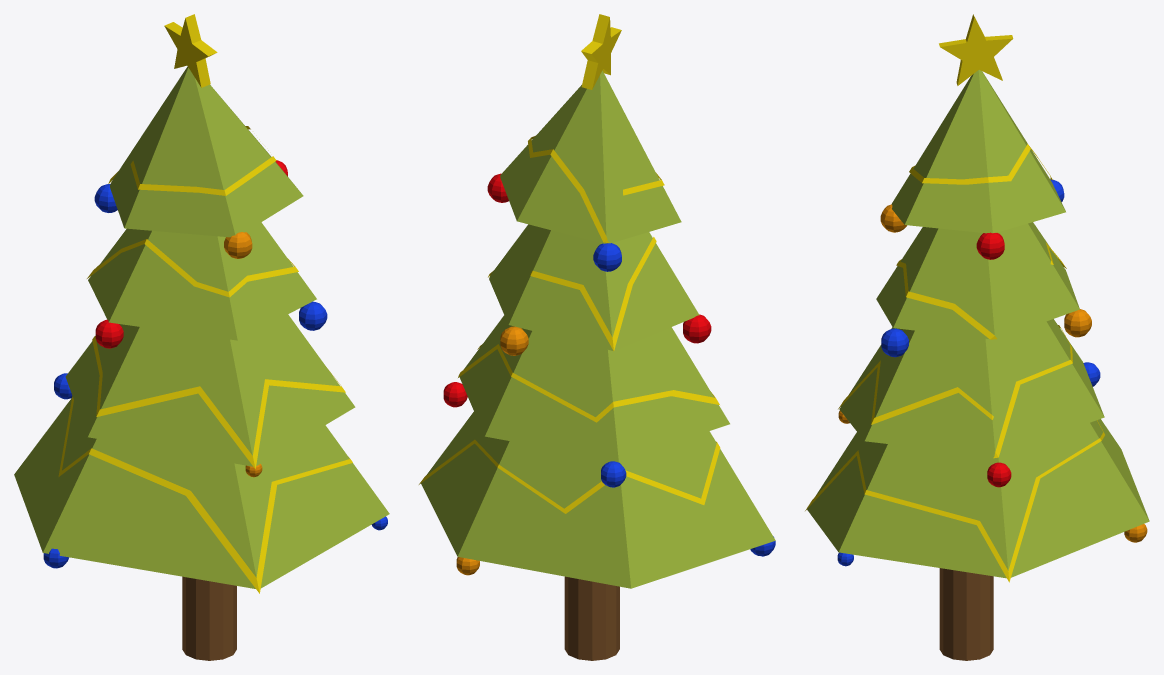
The model's file is tree_christmas.fbx.
The picture shows the model from 3 angles, left to right: view 1: azimuth 30°, elevation 25°; view 2: azimuth 150°, elevation 25°; view 3: azimuth 270°, elevation 25°; orthographic projection. The views are drawn at different scales.
Parts seen in each view (by area): view 1: Cone.002; view 2: Cone.002; view 3: Cone.002.
Boxes of the visible parts, box(x1,y1,x2,y2) form: Cone.002: box(14, 14, 389, 660); Cone.002: box(419, 14, 775, 660); Cone.002: box(805, 14, 1149, 660).
Size of the model in its own units: 724 by 1350 by 675.
